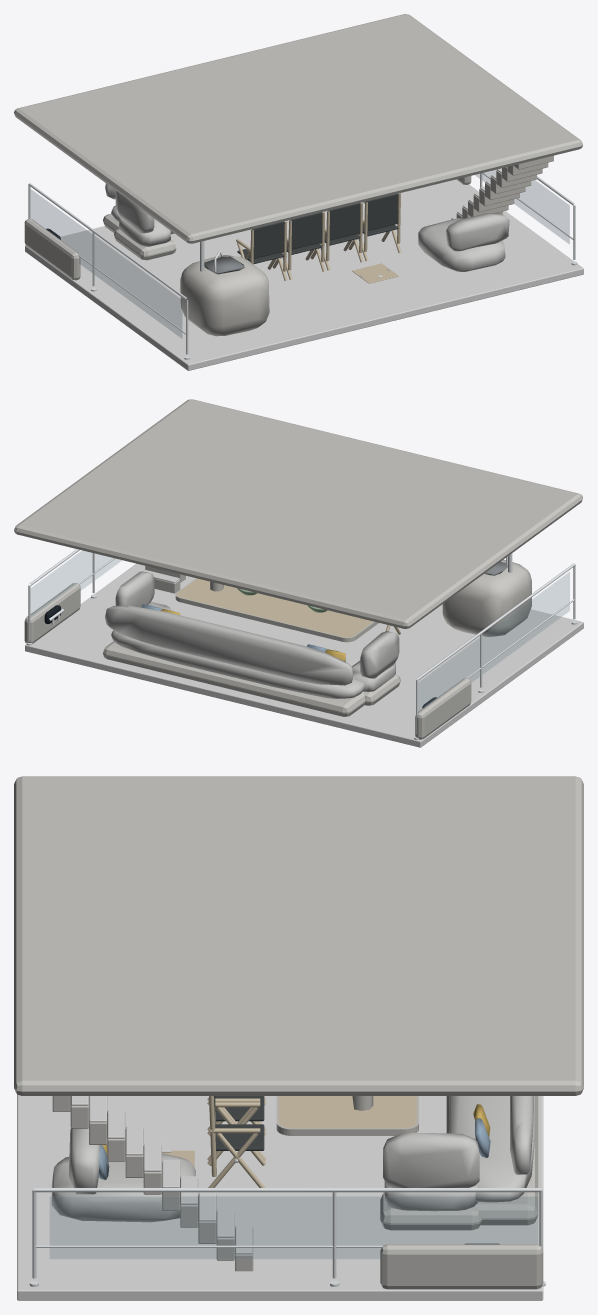
The model's file is context.glb.
3 renders of one model, top to bottom at view 1: azimuth 30°, elevation 25°; view 2: azimuth 150°, elevation 25°; view 3: azimuth 270°, elevation 25°, orthographic. The views are drawn at different scales.
Visible parts, largest first — view 1: cockpit | cockpit, cockpit | none; view 2: cockpit | cockpit, cockpit | none; view 3: cockpit | cockpit, cockpit | none.
Part boxes in pixels (left/top/right/bottom): cockpit | cockpit: left=14, top=14, right=583, bottom=370; cockpit | none: left=28, top=170, right=577, bottom=359; cockpit | cockpit: left=14, top=399, right=583, bottom=747; cockpit | none: left=26, top=549, right=577, bottom=739; cockpit | cockpit: left=14, top=776, right=583, bottom=1300; cockpit | none: left=29, top=1150, right=545, bottom=1286.
Bounding box in the file's own units: 7.14 × 2.3 × 5.48.
